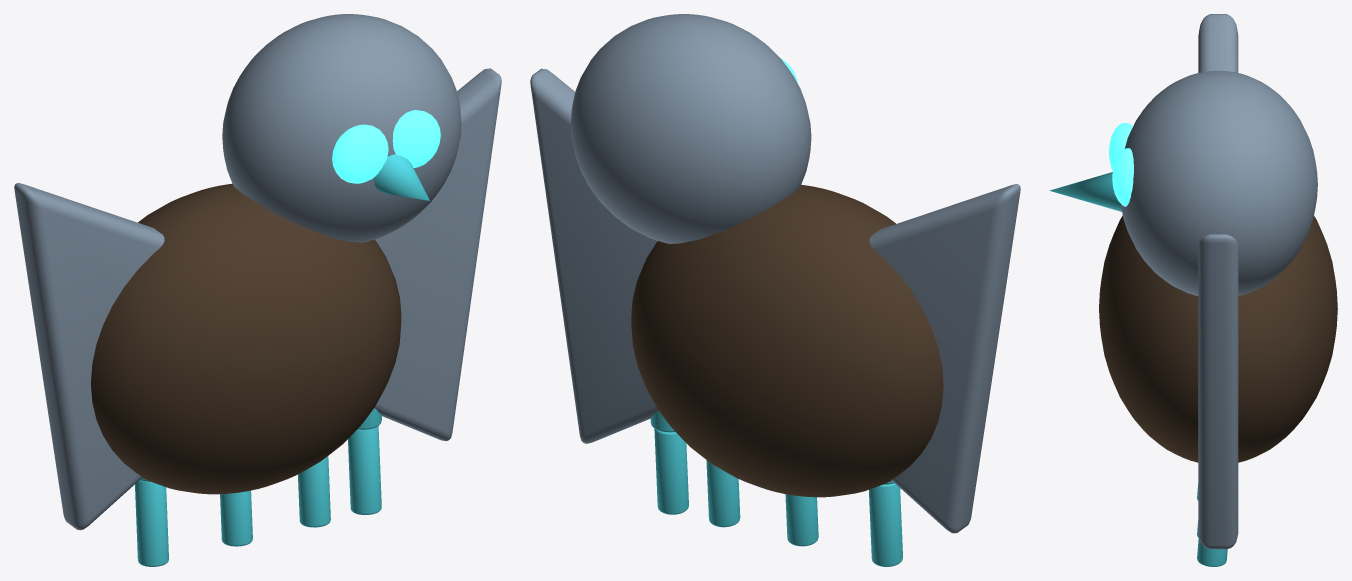
Rendered from avian_v7.glb.
3 renders of one model, left to right at view 1: azimuth 30°, elevation 25°; view 2: azimuth 150°, elevation 25°; view 3: azimuth 270°, elevation 25°, orthographic. The views are drawn at different scales.
Parts seen in each view (by area): view 1: GRYPHON_CHICK_BODY_SECONDARY, GRYPHON_CHICK_HEAD_PRIMARY, GRYPHON_CHICK_WING_PRIMARY, GRYPHON_CHICK_WING_PRIMARY.001, GRYPHON_CHICK_LOWER_LEG_ACCENT.003, GRYPHON_CHICK_LOWER_LEG_ACCENT, EYE_EMISSIVE, EYE_EMISSIVE.001, GRYPHON_CHICK_LOWER_LEG_ACCENT.002, GRYPHON_CHICK_LOWER_LEG_ACCENT.001, GRYPHON_CHICK_BEAK_ACCENT; view 2: GRYPHON_CHICK_BODY_SECONDARY, GRYPHON_CHICK_HEAD_PRIMARY, GRYPHON_CHICK_WING_PRIMARY, GRYPHON_CHICK_WING_PRIMARY.001, GRYPHON_CHICK_LOWER_LEG_ACCENT.003, GRYPHON_CHICK_LOWER_LEG_ACCENT, GRYPHON_CHICK_LOWER_LEG_ACCENT.002, GRYPHON_CHICK_LOWER_LEG_ACCENT.001; view 3: GRYPHON_CHICK_HEAD_PRIMARY, GRYPHON_CHICK_BODY_SECONDARY, GRYPHON_CHICK_WING_PRIMARY.001, GRYPHON_CHICK_WING_PRIMARY, GRYPHON_CHICK_BEAK_ACCENT, EYE_EMISSIVE.001, EYE_EMISSIVE, GRYPHON_CHICK_LOWER_LEG_ACCENT.003.
Boxes of the visible parts, x1=… form: GRYPHON_CHICK_BODY_SECONDARY: x1=91, y1=183, x2=401, y2=494; GRYPHON_CHICK_HEAD_PRIMARY: x1=222, y1=14, x2=461, y2=242; GRYPHON_CHICK_WING_PRIMARY: x1=14, y1=183, x2=164, y2=530; GRYPHON_CHICK_WING_PRIMARY.001: x1=374, y1=68, x2=501, y2=441; GRYPHON_CHICK_LOWER_LEG_ACCENT.003: x1=348, y1=426, x2=381, y2=514; GRYPHON_CHICK_LOWER_LEG_ACCENT: x1=135, y1=480, x2=168, y2=566; EYE_EMISSIVE: x1=332, y1=124, x2=388, y2=183; EYE_EMISSIVE.001: x1=392, y1=110, x2=440, y2=167; GRYPHON_CHICK_LOWER_LEG_ACCENT.002: x1=298, y1=456, x2=330, y2=527; GRYPHON_CHICK_LOWER_LEG_ACCENT.001: x1=220, y1=490, x2=252, y2=546; GRYPHON_CHICK_BEAK_ACCENT: x1=373, y1=154, x2=429, y2=200; GRYPHON_CHICK_BODY_SECONDARY: x1=631, y1=184, x2=943, y2=497; GRYPHON_CHICK_HEAD_PRIMARY: x1=570, y1=14, x2=811, y2=243; GRYPHON_CHICK_WING_PRIMARY: x1=869, y1=184, x2=1020, y2=533; GRYPHON_CHICK_WING_PRIMARY.001: x1=530, y1=68, x2=658, y2=443; GRYPHON_CHICK_LOWER_LEG_ACCENT.003: x1=654, y1=429, x2=688, y2=514; GRYPHON_CHICK_LOWER_LEG_ACCENT: x1=869, y1=483, x2=902, y2=566; GRYPHON_CHICK_LOWER_LEG_ACCENT.002: x1=706, y1=460, x2=740, y2=527; GRYPHON_CHICK_LOWER_LEG_ACCENT.001: x1=785, y1=494, x2=818, y2=546; GRYPHON_CHICK_HEAD_PRIMARY: x1=1121, y1=71, x2=1317, y2=296; GRYPHON_CHICK_BODY_SECONDARY: x1=1099, y1=215, x2=1337, y2=462; GRYPHON_CHICK_WING_PRIMARY.001: x1=1198, y1=234, x2=1238, y2=549; GRYPHON_CHICK_WING_PRIMARY: x1=1198, y1=14, x2=1238, y2=72; GRYPHON_CHICK_BEAK_ACCENT: x1=1049, y1=172, x2=1121, y2=211; EYE_EMISSIVE.001: x1=1112, y1=148, x2=1133, y2=206; EYE_EMISSIVE: x1=1109, y1=123, x2=1132, y2=170; GRYPHON_CHICK_LOWER_LEG_ACCENT.003: x1=1197, y1=536, x2=1227, y2=566.
Bounding box in the file's own units: 1.59 × 1.56 × 0.87.
